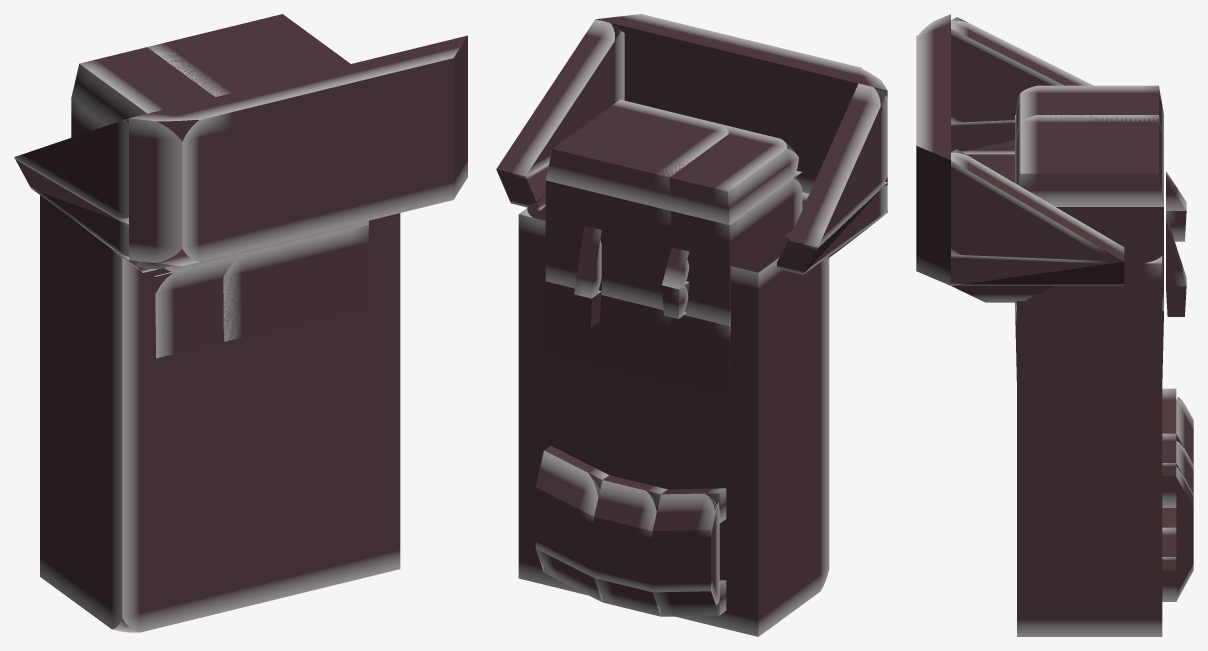
Rendered from hoodie5.obj.
3 renders of one model, left to right at view 1: azimuth 30°, elevation 25°; view 2: azimuth 150°, elevation 25°; view 3: azimuth 270°, elevation 25°, orthographic. The views are drawn at different scales.
Parts seen in each view (by area): view 1: bodyModel0, bodyModel17, leftArmModel1, leftArmModel2, rightArmModel2, rightArmModel1, bodyModel16, bodyModel19, rightArmModel0; view 2: bodyModel0, bodyModel17, rightArmModel0, leftArmModel2, leftArmModel0, rightArmModel2, bodyModel20, bodyModel16, rightArmModel1, bodyModel3, leftArmModel1, bodyModel4 (+9 smaller); view 3: bodyModel0, leftArmModel2, bodyModel20, bodyModel17, bodyModel16, bodyModel21, rightArmModel2, leftArmModel0, bodyModel19, bodyModel4, bodyModel18, bodyModel13 (+10 smaller).
Part boxes in pixels (x1,y1,x2,y2): bodyModel0: (40, 195, 400, 632); bodyModel17: (129, 35, 467, 266); leftArmModel1: (223, 225, 368, 341); leftArmModel2: (147, 14, 350, 96); rightArmModel2: (71, 31, 277, 124); rightArmModel1: (154, 243, 298, 358); bodyModel16: (14, 119, 162, 224); bodyModel19: (14, 157, 128, 259); rightArmModel0: (71, 98, 293, 276); bodyModel0: (518, 195, 829, 636); bodyModel17: (596, 14, 887, 212); rightArmModel0: (604, 177, 802, 326); leftArmModel2: (545, 99, 728, 210); leftArmModel0: (545, 180, 671, 309); rightArmModel2: (605, 124, 801, 225); bodyModel20: (496, 19, 624, 176); bodyModel16: (789, 83, 887, 247); rightArmModel1: (604, 295, 730, 396); bodyModel3: (652, 493, 719, 616); leftArmModel1: (545, 281, 671, 382); bodyModel4: (535, 450, 602, 601); bodyModel0: (1017, 256, 1162, 636); leftArmModel2: (1015, 115, 1163, 206); bodyModel20: (951, 149, 1124, 261); bodyModel17: (916, 14, 950, 285); bodyModel16: (951, 17, 1093, 122); bodyModel21: (951, 254, 1124, 285); rightArmModel2: (1015, 85, 1163, 151); leftArmModel0: (1015, 207, 1163, 310); bodyModel19: (951, 120, 1014, 154); bodyModel4: (1176, 467, 1193, 601); bodyModel18: (951, 154, 1054, 302); bodyModel13: (1166, 216, 1186, 286).
Size of the model in its own units: 11 by 15.6 by 8.
